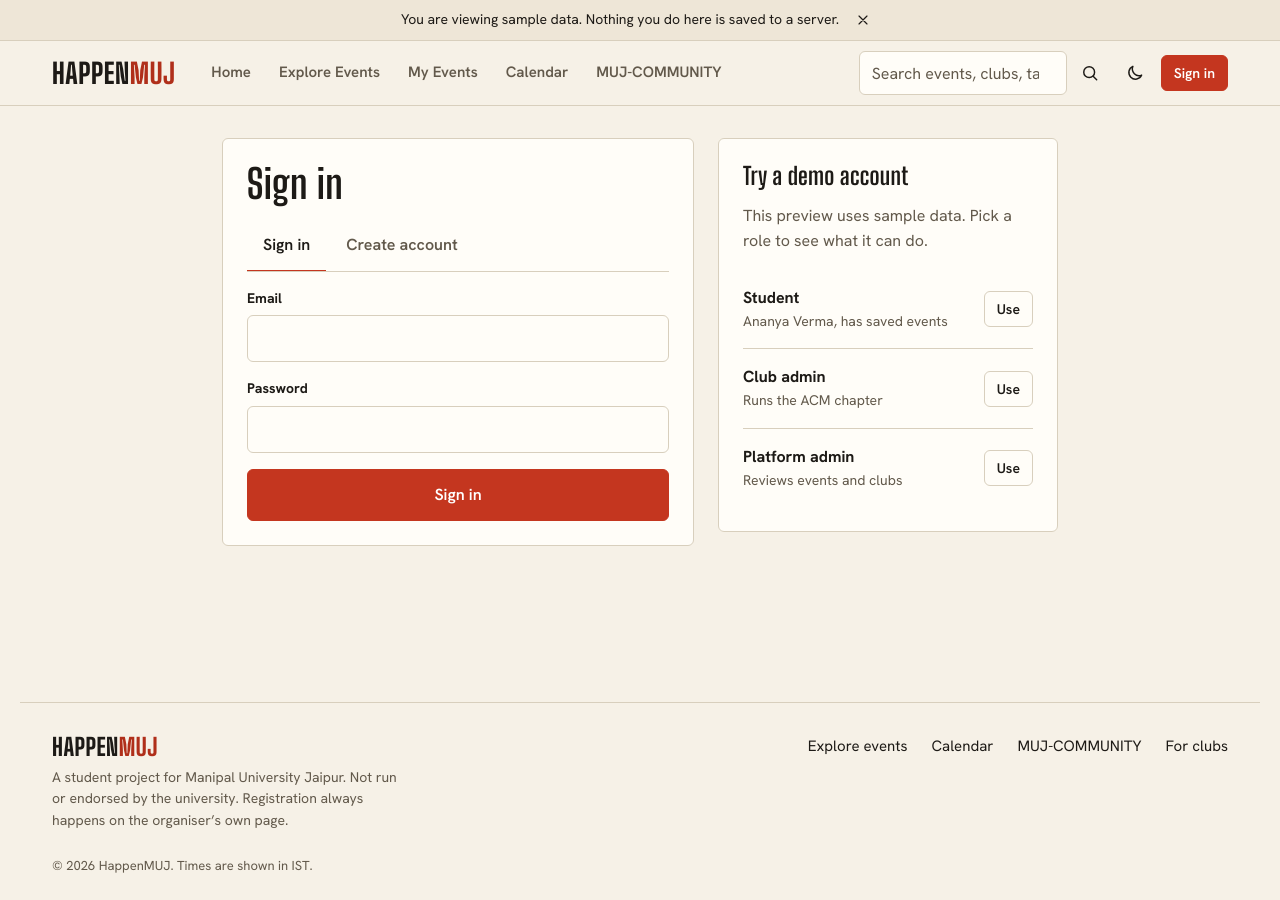
Test: app smoke › calendar flags the overlapping saved events for the demo student
Click the button "Use" next to "Ananya Verma, has saved events" at [1008, 309], box top-left (984, 291), bottom-right (1033, 327)
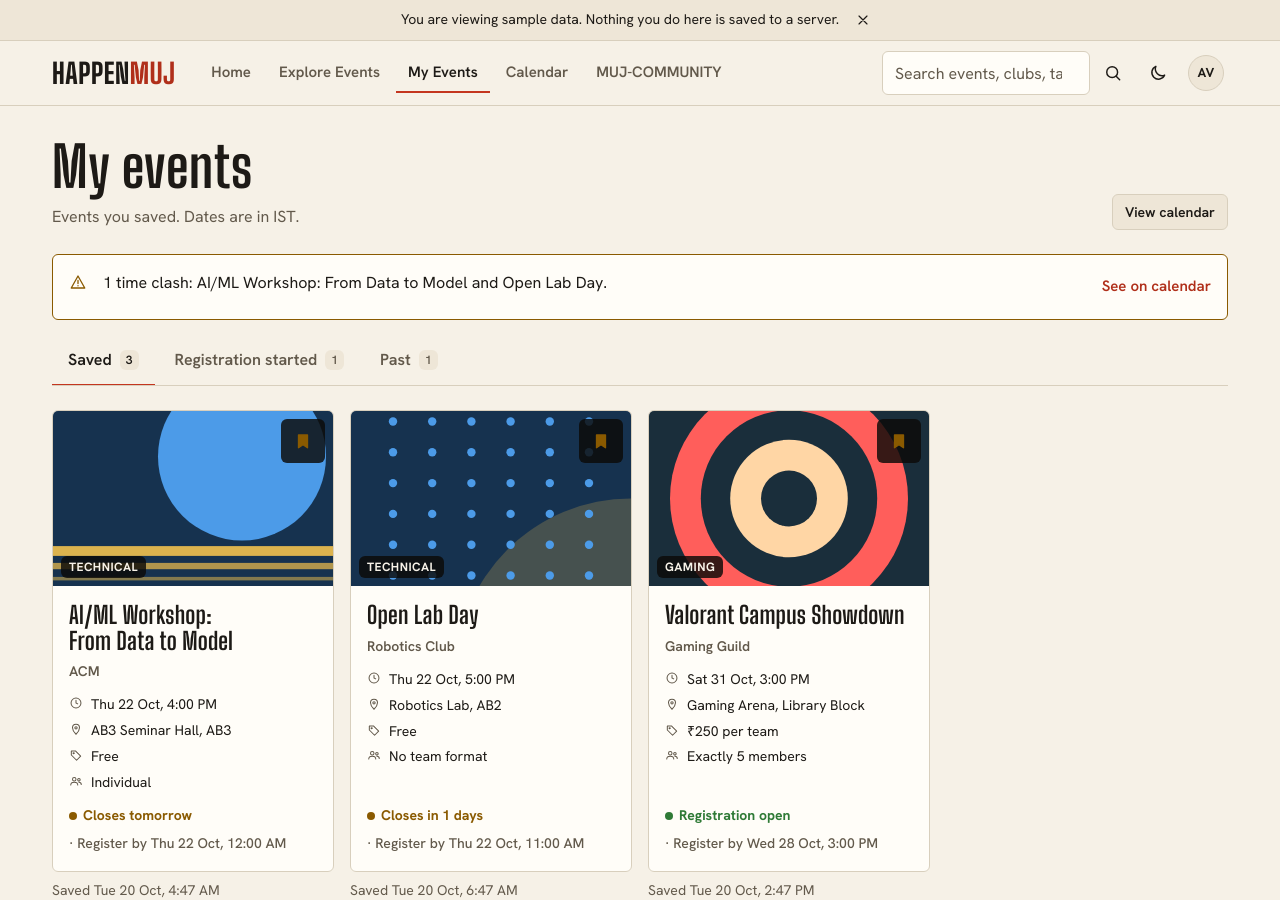
Check: the button with aria-label "Account menu" is shown, box top-left (1184, 51), bottom-right (1228, 95)
Check: the text "time clash" is shown, box top-left (103, 272), bottom-right (189, 293)
